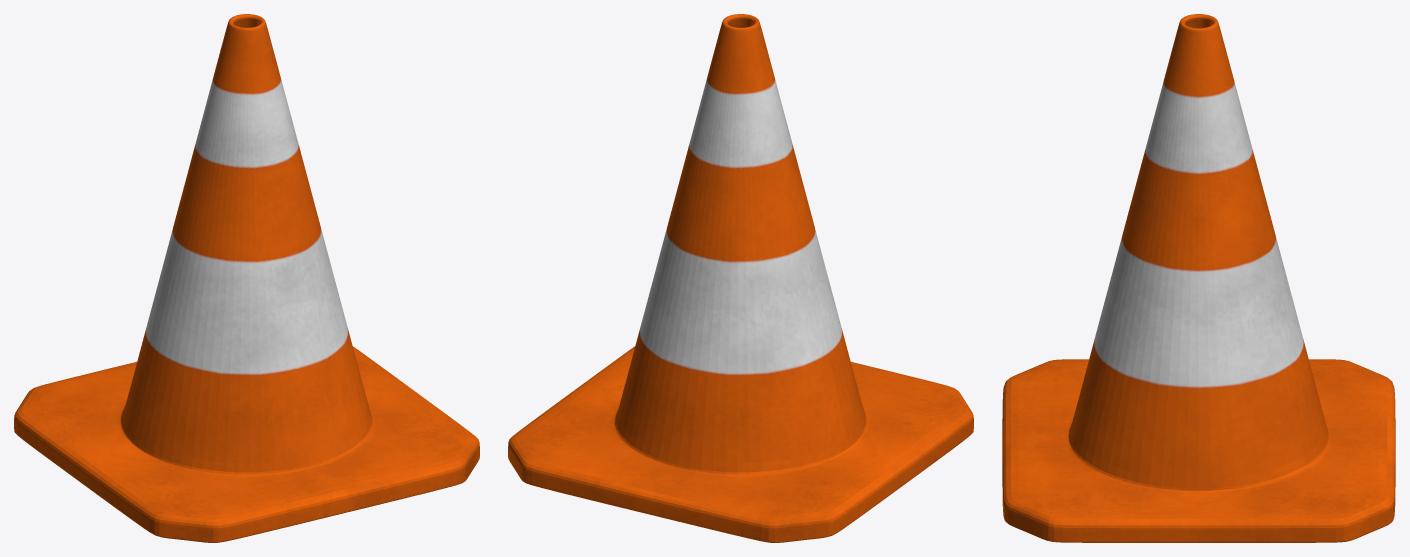
File: TrafficCone.obj
3 renders of one model, left to right at view 1: azimuth 30°, elevation 25°; view 2: azimuth 150°, elevation 25°; view 3: azimuth 270°, elevation 25°, orthographic. The views are drawn at different scales.
Visible parts, largest first — view 1: Cone; view 2: Cone; view 3: Cone.
Part boxes in pixels (x1,y1,x2,y2): Cone: (14,14,479,542); Cone: (508,14,973,542); Cone: (1002,14,1395,542).
Size of the model in its own units: 0.42 by 0.5188 by 0.42.
1 material, 1 textured.
